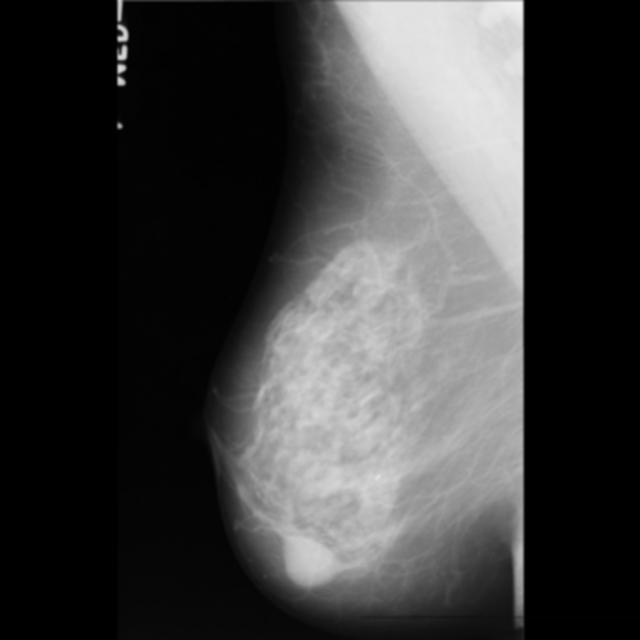CIRC: (278, 531, 339, 593)
